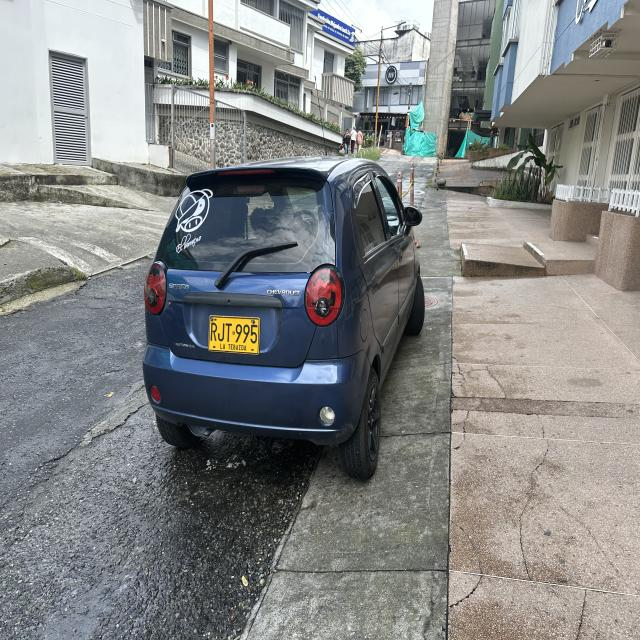number plate: (208, 315, 260, 354)
